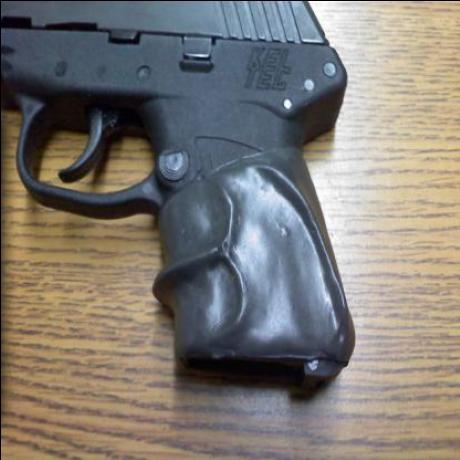weapon: (0, 0, 373, 399)
